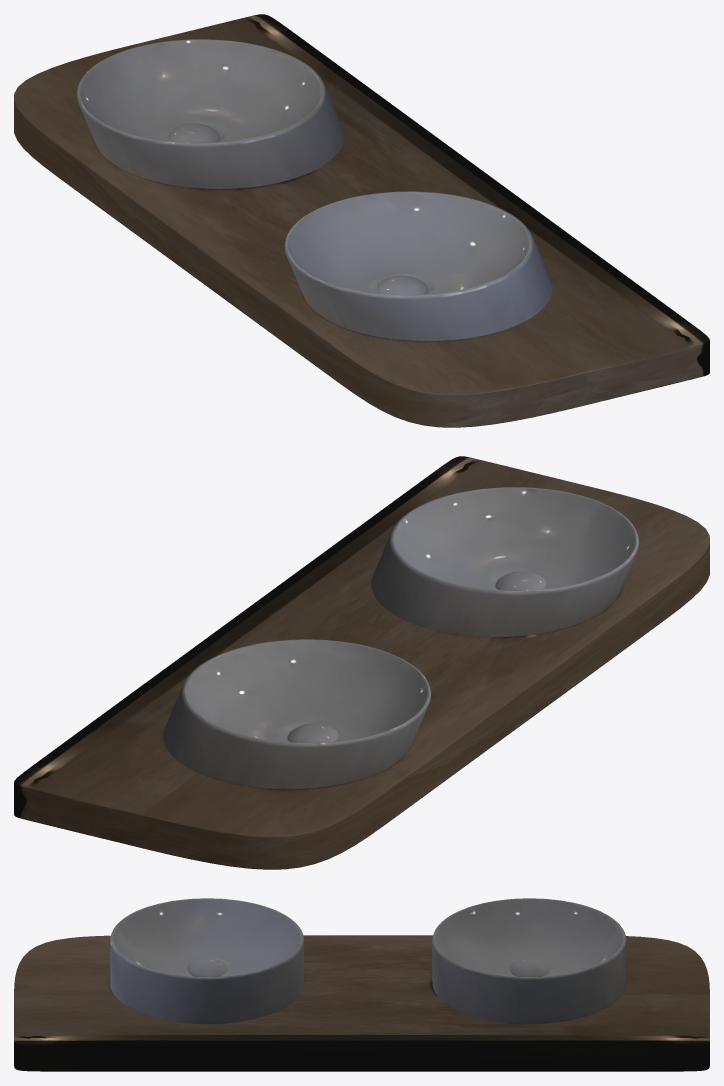
Rendered from WB_OVER_COUNTER_ORNATE.glb.
The picture shows the model from 3 angles, top to bottom: view 1: azimuth 30°, elevation 25°; view 2: azimuth 150°, elevation 25°; view 3: azimuth 270°, elevation 25°; orthographic projection. The views are drawn at different scales.
Parts seen in each view (by area): view 1: WB_OVER_COUNTER_ORNATE; view 2: WB_OVER_COUNTER_ORNATE; view 3: WB_OVER_COUNTER_ORNATE.
Boxes of the visible parts, bbox=[...] form: WB_OVER_COUNTER_ORNATE: bbox=[14, 14, 709, 427]; WB_OVER_COUNTER_ORNATE: bbox=[14, 456, 709, 869]; WB_OVER_COUNTER_ORNATE: bbox=[14, 898, 709, 1071].
Bounding box in the file's own units: 2.32 × 0.6477 × 6.19.
Materials: 1 (1 with a texture image).
